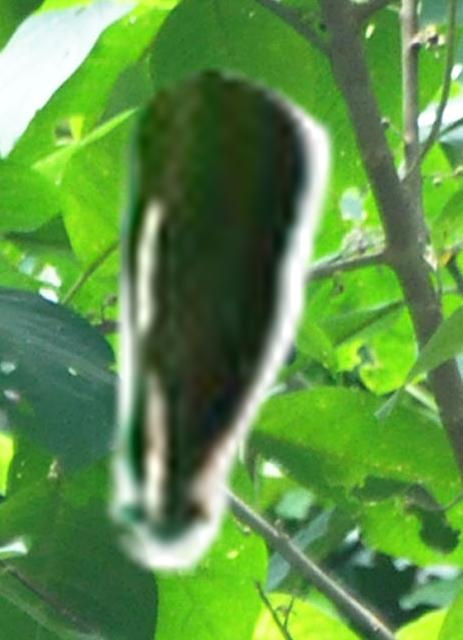green_chili: (92, 61, 339, 577)
